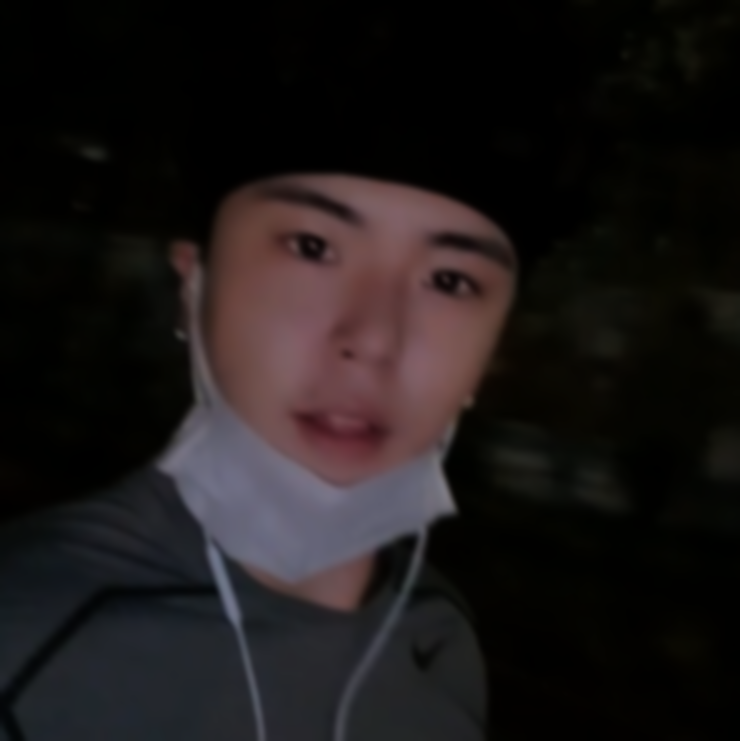mask_weared_incorrect: (163, 98, 522, 580)
